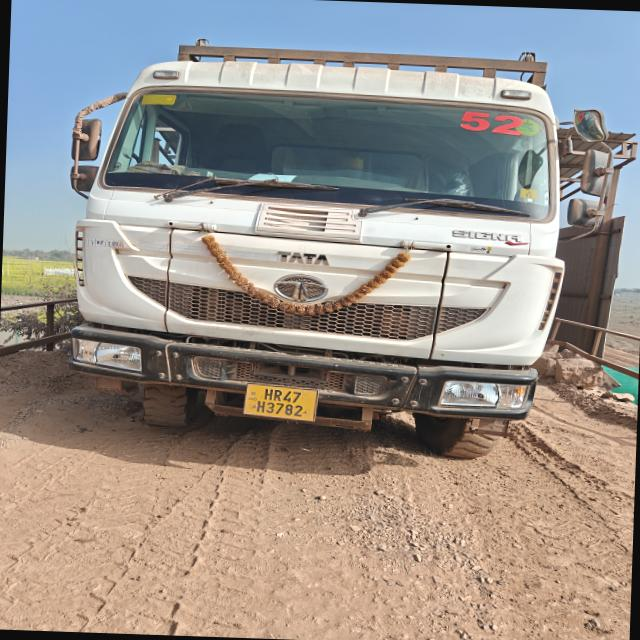license_plate: (244, 384, 317, 421)
